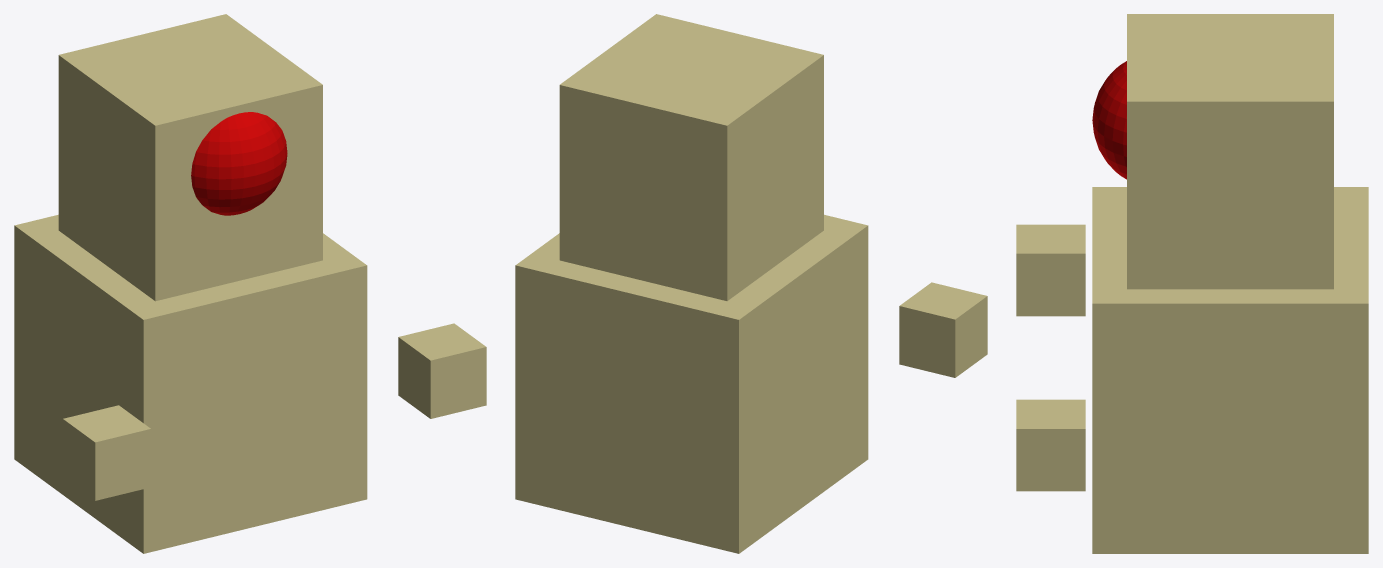
The model's file is Bob.mtl.obj.
The picture shows the model from 3 angles, left to right: view 1: azimuth 30°, elevation 25°; view 2: azimuth 150°, elevation 25°; view 3: azimuth 270°, elevation 25°; orthographic projection. The views are drawn at different scales.
Parts seen in each view (by area): view 1: Cube, Cube.001, Sphere, Cube.002, Cube.003; view 2: Cube, Cube.001, Cube.003; view 3: Cube, Cube.001, Cube.002, Cube.003, Sphere.
Part boxes in pixels (left/top/right/bottom): Cube: left=14, top=214, right=367, bottom=553; Cube.001: left=58, top=14, right=322, bottom=301; Sphere: left=191, top=112, right=287, bottom=215; Cube.002: left=398, top=323, right=486, bottom=418; Cube.003: left=63, top=405, right=150, bottom=500; Cube: left=515, top=214, right=868, bottom=553; Cube.001: left=559, top=14, right=823, bottom=300; Cube.003: left=899, top=282, right=987, bottom=377; Cube: left=1092, top=187, right=1368, bottom=553; Cube.001: left=1127, top=14, right=1333, bottom=289; Cube.002: left=1016, top=399, right=1085, bottom=491; Cube.003: left=1016, top=224, right=1085, bottom=316; Sphere: left=1092, top=61, right=1126, bottom=179.
Size of the model in its own units: 1.75 by 1.75 by 1.27.
